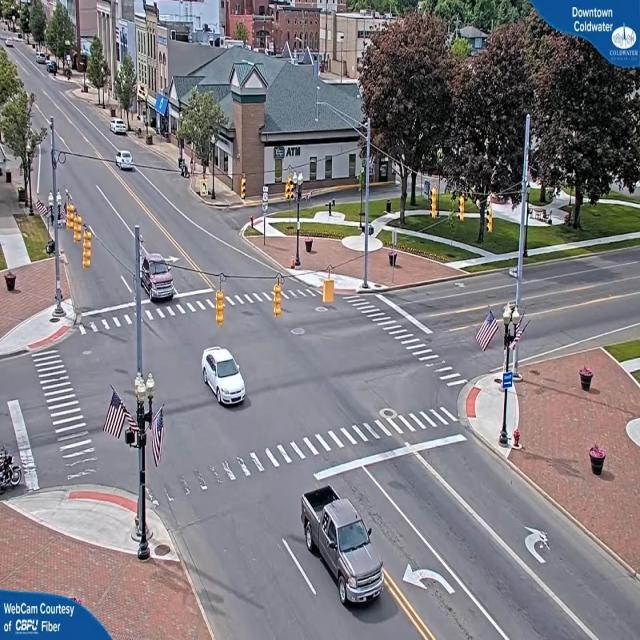car: (303, 482, 386, 610), (200, 348, 248, 408), (136, 254, 178, 306), (116, 152, 136, 171), (111, 120, 129, 136)
